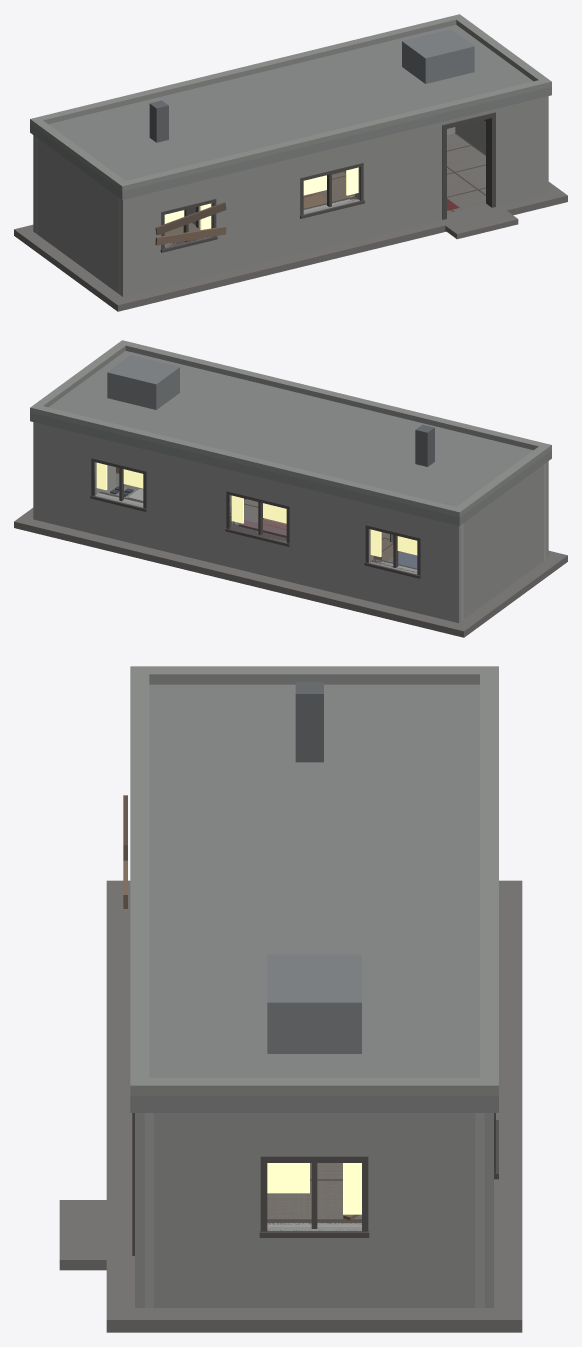
File: casa_06_trailer.glb
The picture shows the model from 3 angles, top to bottom: view 1: azimuth 30°, elevation 25°; view 2: azimuth 150°, elevation 25°; view 3: azimuth 270°, elevation 25°; orthographic projection. The views are drawn at different scales.
Visible parts, largest first — view 1: roof, wall_south, floor, walls_exterior, exterior_props, decor_grim, glass; view 2: walls_exterior, roof, floor, glass, furniture, wall_south; view 3: roof, walls_exterior, floor, exterior_props, wall_south, glass.
Part boxes in pixels (x1,y1,x2,y2): roof: (30, 14, 551, 199); wall_south: (118, 96, 548, 296); floor: (14, 133, 567, 311); walls_exterior: (33, 119, 485, 293); exterior_props: (148, 198, 533, 293); decor_grim: (155, 196, 459, 245); glass: (164, 167, 358, 229); walls_exterior: (33, 422, 543, 622); roof: (30, 340, 551, 525); floor: (14, 472, 567, 637); glass: (96, 462, 417, 557); furniture: (99, 465, 417, 568); wall_south: (544, 461, 548, 560); roof: (130, 666, 498, 1112); walls_exterior: (154, 1113, 498, 1307); floor: (106, 880, 522, 1332); exterior_props: (59, 916, 134, 1289); wall_south: (132, 1113, 153, 1307); glass: (267, 1163, 361, 1214).
Bounding box in the file's own units: 11 × 3.45 × 4.9.
